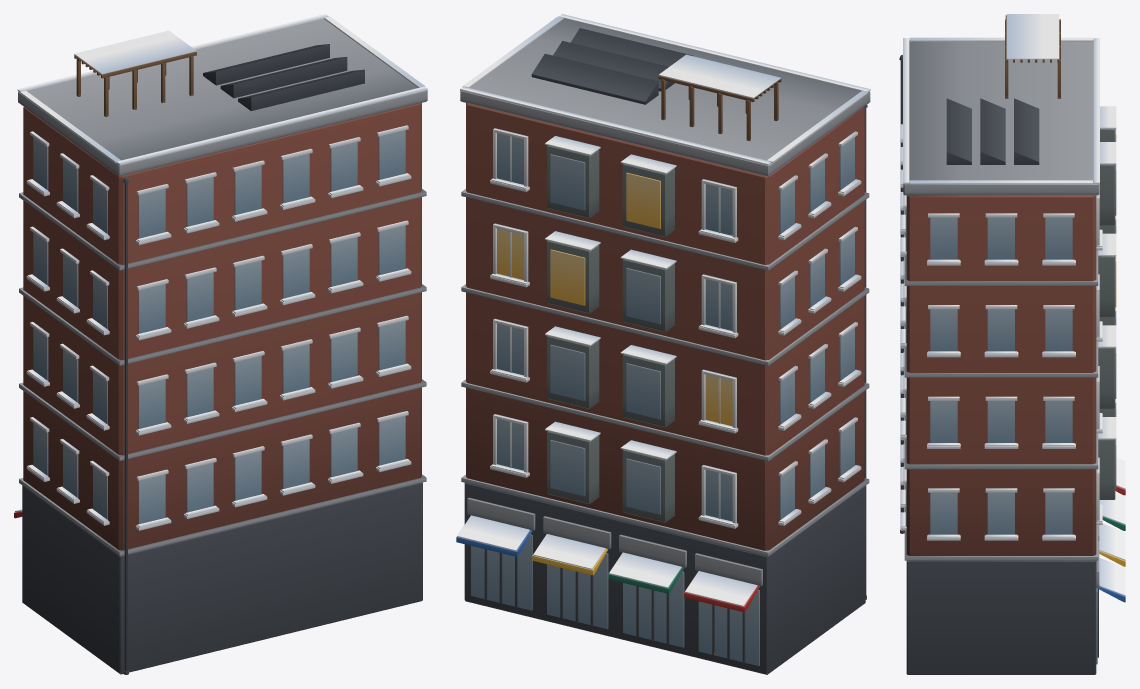
File: ck_midrise_mixed.fbx
3 views of the same model, side by side, from view 1: azimuth 30°, elevation 25°; view 2: azimuth 150°, elevation 25°; view 3: azimuth 270°, elevation 25° (orthographic). The views are drawn at different scales.
Parts seen in each view (by area): view 1: ck_midrise_mixed; view 2: ck_midrise_mixed; view 3: ck_midrise_mixed.
Part boxes in pixels (box(x1,y1,x2,y2)): ck_midrise_mixed: box(14, 14, 427, 674); ck_midrise_mixed: box(456, 14, 870, 674); ck_midrise_mixed: box(899, 14, 1125, 674).
Size of the model in its own units: 3320 by 5600 by 2150.
